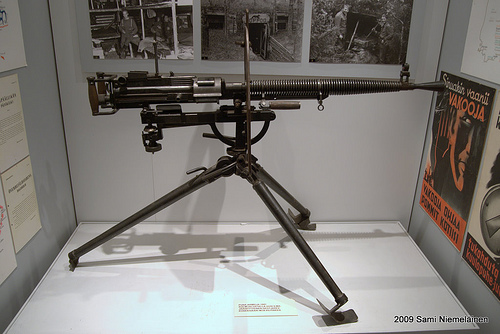rifle: (60, 35, 477, 312)
